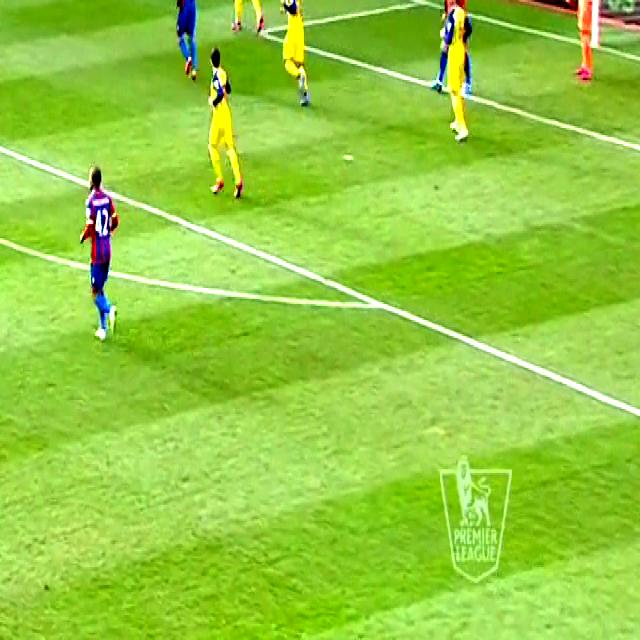goalkeeper: (550, 0, 602, 85)
soccer-player: (70, 153, 127, 342), (201, 36, 251, 202), (429, 0, 482, 144), (281, 0, 323, 110), (169, 0, 206, 85), (227, 0, 263, 37)
